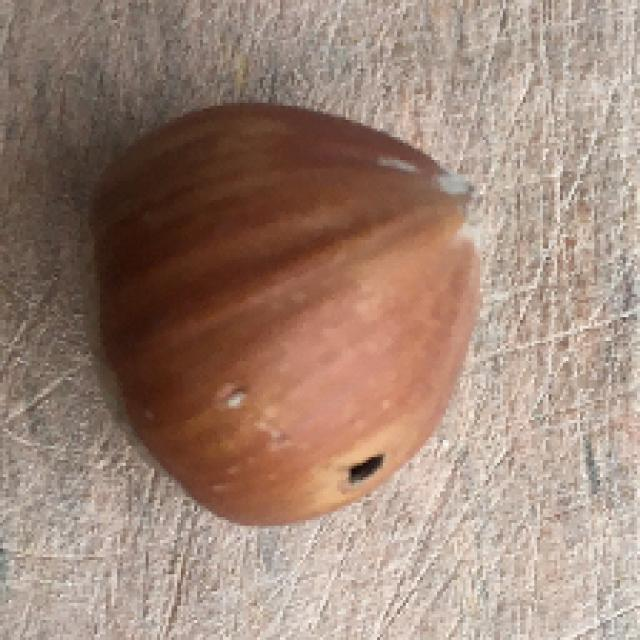DamagedHazelnut: (81, 103, 483, 527)
